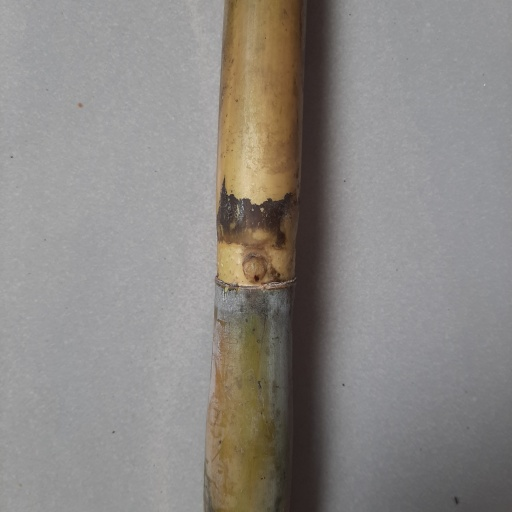Bud: (243, 256, 267, 286)
